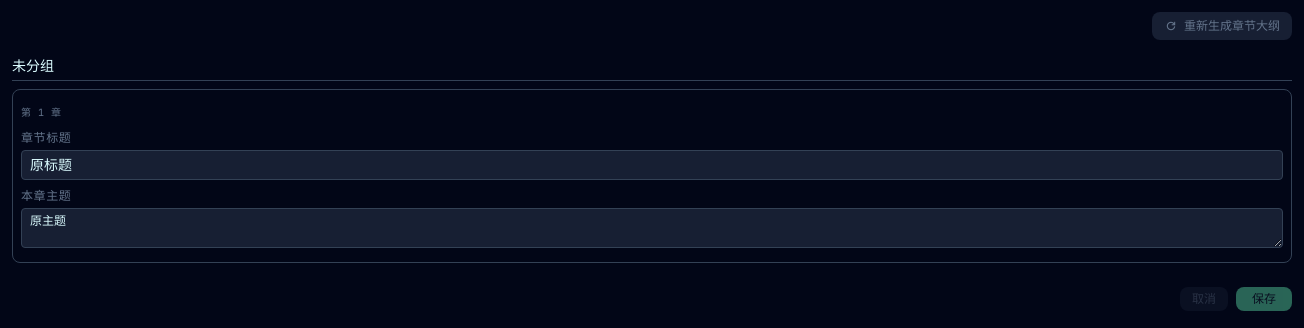
ChapterOutlineEditor › cancel reverts local state to the data prop
Replace the text in the field with test id "chapter-1-title" with "临时修改" at [652, 165], box [21,150,1283,180]
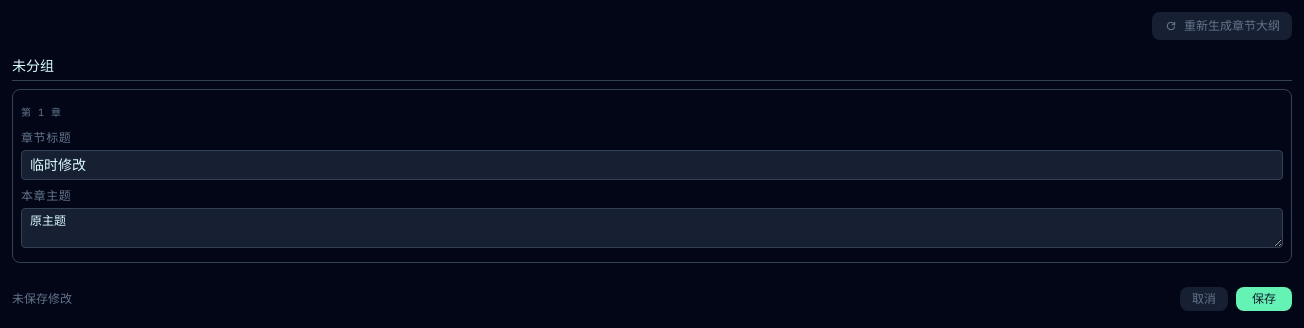
Click the button with test id "chapter-outline-editor-cancel" at [1204, 299], box [1180,287,1228,311]
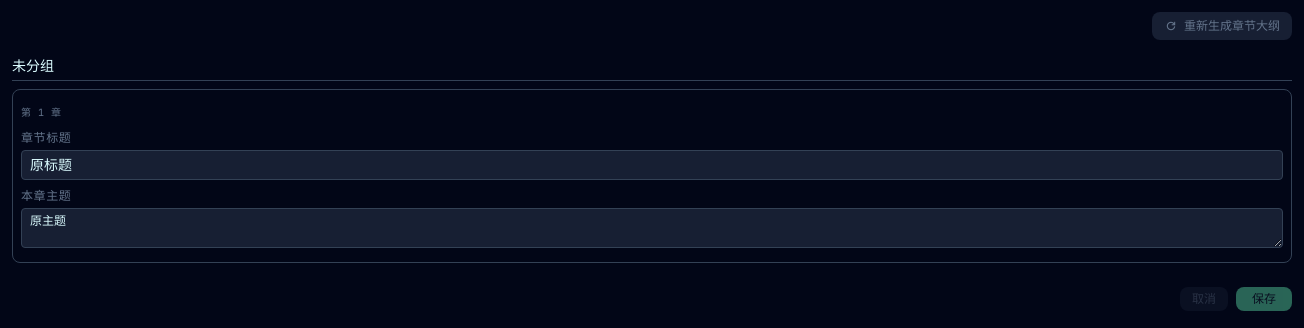
Expected: the field with test id "chapter-1-title" holds "原标题", [21,150,1283,180]
